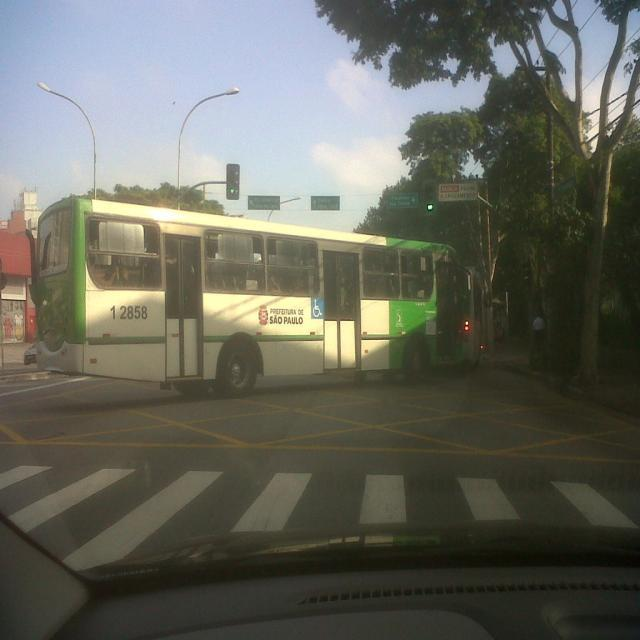traffic light: (422, 180, 437, 215), (226, 163, 240, 200)
